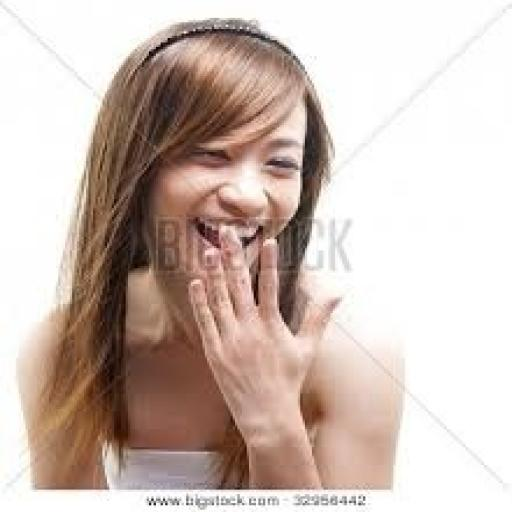laughing: (12, 14, 407, 488)
